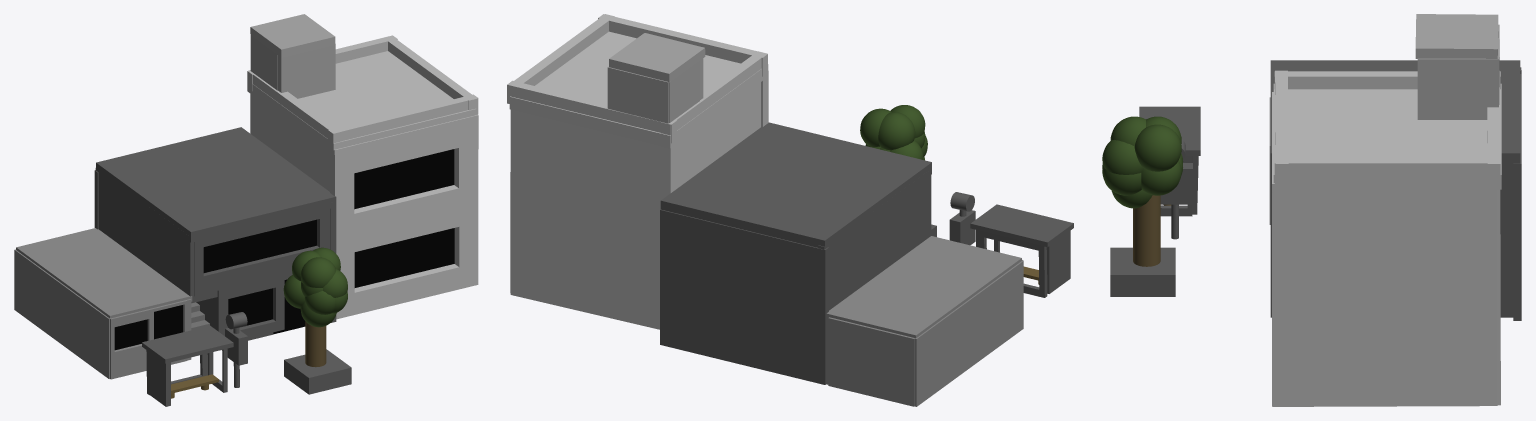
The model's file is 민규씨 맵.fbx.
The picture shows the model from 3 angles, left to right: view 1: azimuth 30°, elevation 25°; view 2: azimuth 150°, elevation 25°; view 3: azimuth 270°, elevation 25°; orthographic projection. The views are drawn at different scales.
Parts seen in each view (by area): view 1: polySurface7, pCube45, pCube52, pCube15, pCube53, pCube10, pCube35, polySurface5, pCube49, pCube44, pCube56, polySurface4 (+21 smaller); view 2: pCube48, pCube45, pCube38, pCube20, pCube15, pCube10, pCube52, pCube35, pCube11, pCube49, pCube58, pCube57 (+11 smaller); view 3: pCube47, pCube52, pCube60, pCube55, pCube45, pCube58, pCube63, pCube59, pCylinder5, pSphere9, pCube2, pCube61 (+14 smaller).
Boxes of the visible parts, <box> form: polySurface7: <box>330,114,478,319</box>; pCube45: <box>96,127,336,242</box>; pCube52: <box>247,51,476,154</box>; pCube15: <box>16,228,192,318</box>; pCube53: <box>354,149,454,287</box>; pCube10: <box>14,249,109,378</box>; pCube35: <box>95,168,193,296</box>; polySurface5: <box>194,209,330,296</box>; pCube49: <box>250,94,344,191</box>; pCube44: <box>203,219,316,272</box>; pCube56: <box>278,44,335,98</box>; polySurface4: <box>212,271,292,338</box>; pCube48: <box>510,109,660,329</box>; pCube45: <box>660,122,931,249</box>; pCube38: <box>660,209,828,317</box>; pCube20: <box>660,277,826,384</box>; pCube15: <box>826,236,1021,338</box>; pCube10: <box>914,260,1023,406</box>; pCube52: <box>509,31,768,148</box>; pCube35: <box>818,169,931,310</box>; pCube11: <box>828,317,914,406</box>; pCube49: <box>661,82,760,200</box>; pCube58: <box>609,33,705,82</box>; pCube57: <box>607,67,668,123</box>; pCube47: <box>1272,184,1497,406</box>; pCube52: <box>1273,83,1501,189</box>; pCube60: <box>1274,158,1500,185</box>; pCube55: <box>1427,57,1497,119</box>; pCube45: <box>1270,60,1520,167</box>; pCube58: <box>1415,14,1498,58</box>; pCube63: <box>1110,247,1175,296</box>; pCube59: <box>1274,71,1500,89</box>; pCylinder5: <box>1133,195,1160,266</box>; pSphere9: <box>1134,124,1181,171</box>; pCube2: <box>1139,106,1200,155</box>; pCube61: <box>1275,70,1288,185</box>.
Size of the model in its own units: 23.3 by 14.29 by 17.38.
